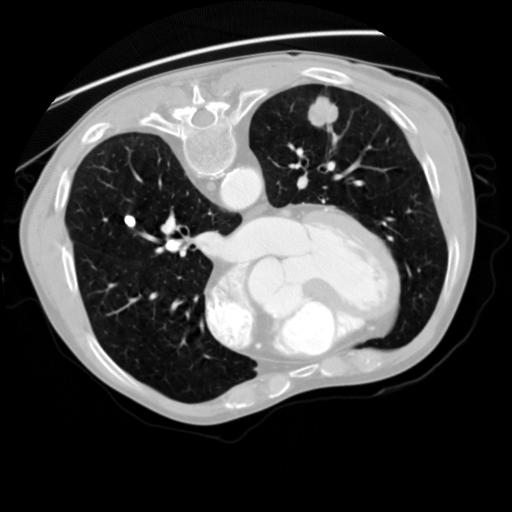nodule: (119, 213, 140, 234)
